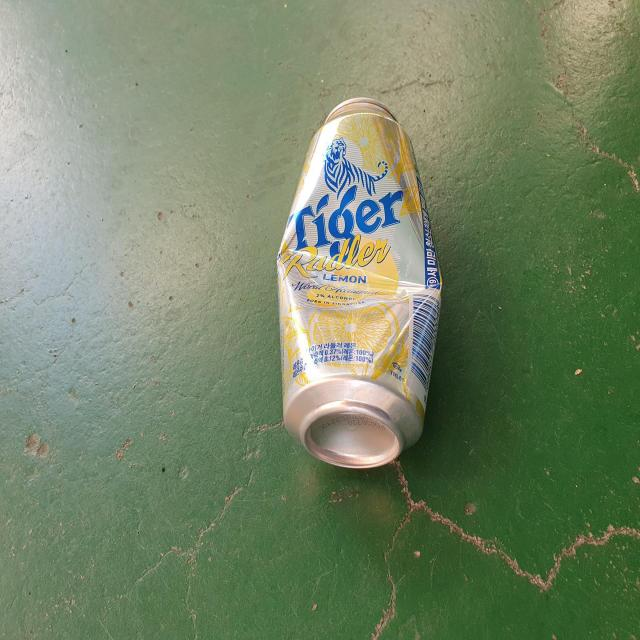can: (277, 97, 443, 468)
